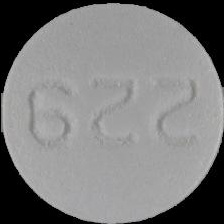55111-229: (0, 0, 224, 224)
